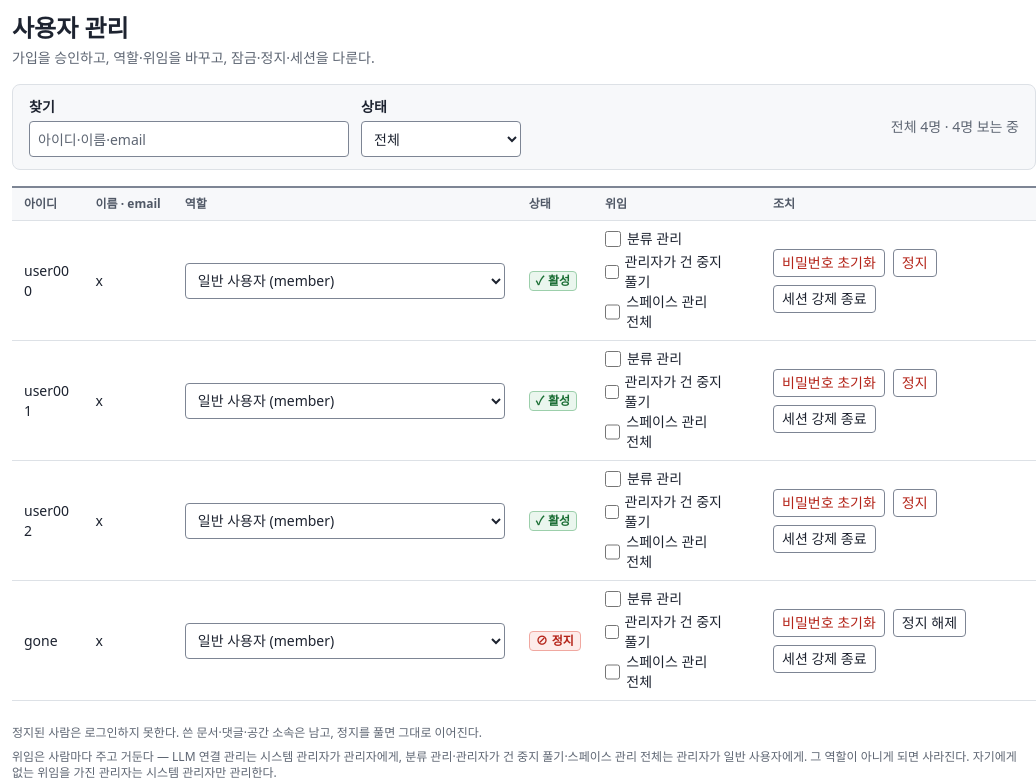
Test: AdminUsersPage — 찾기·거르기·더 보기 (P13 C.6, FR-1450~1452) › **찾는 말과 상태는 서버에 보낸다** — 받은 100명 안에서 거르지 않는다
Expected: the text "user000" is shown, 12,220 -> 84,340
Type "user001" into the search field at [189, 139], box 29,121 -> 349,157
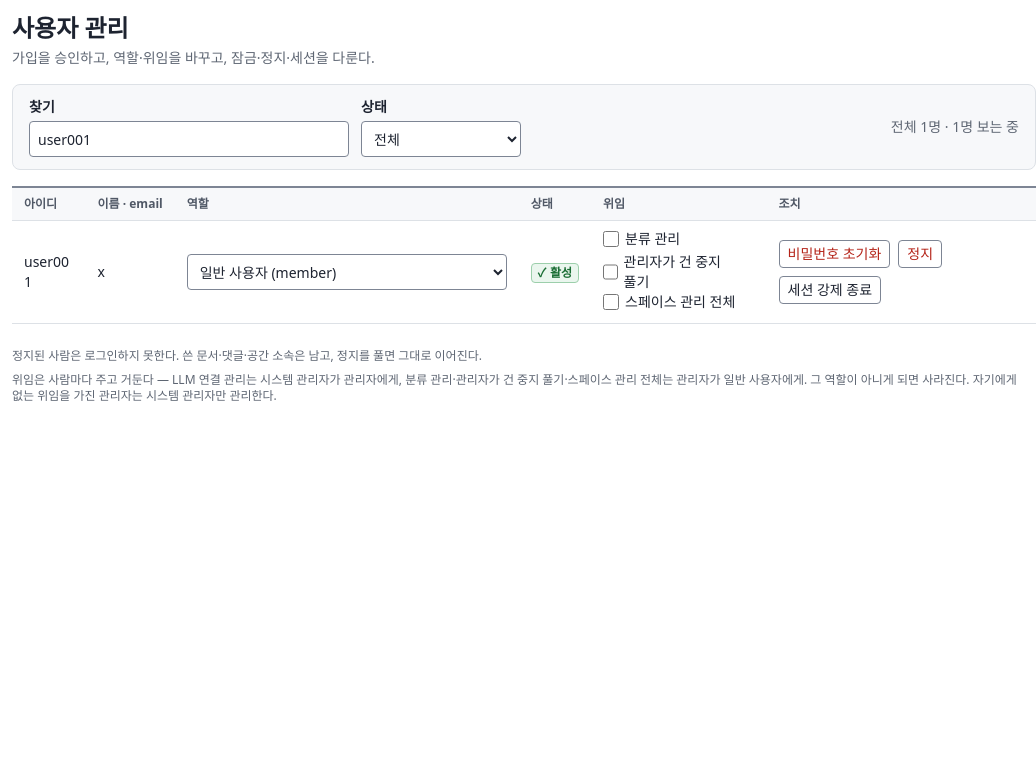
Expected: the text "user001" is shown, 12,220 -> 86,324
Expected: the text "user000" is gone
Clear the search field at [189, 139], box 29,121 -> 349,157
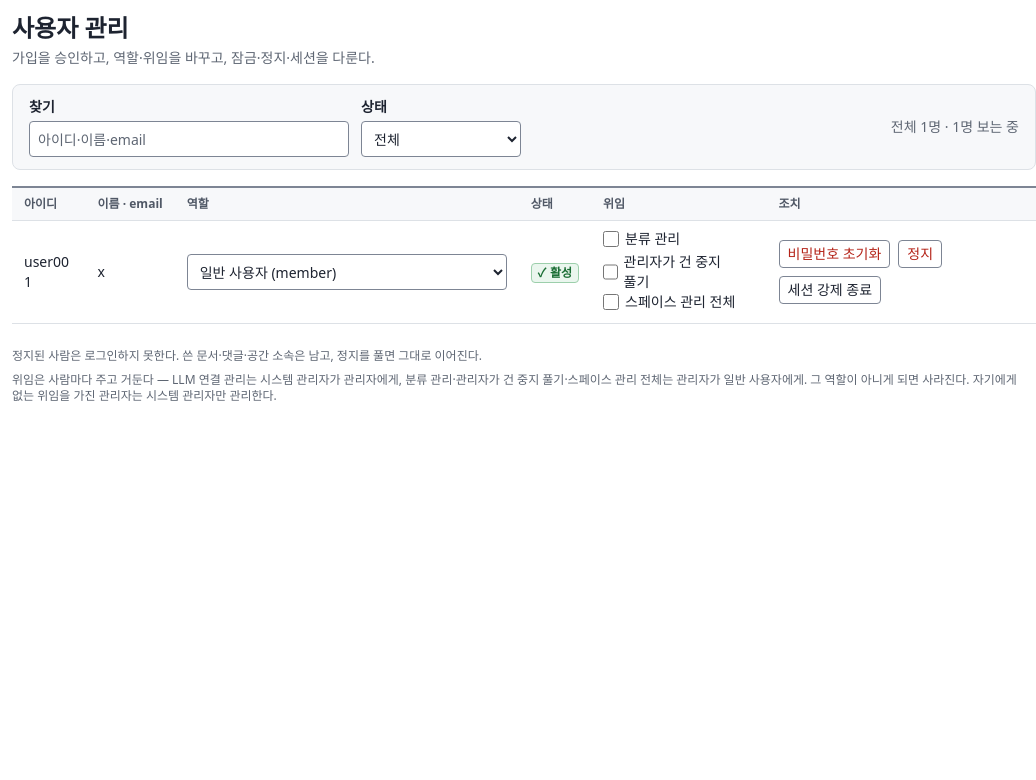
Select "정지" in the dropdown labelled "상태" at [441, 139], box 361,121 -> 521,157
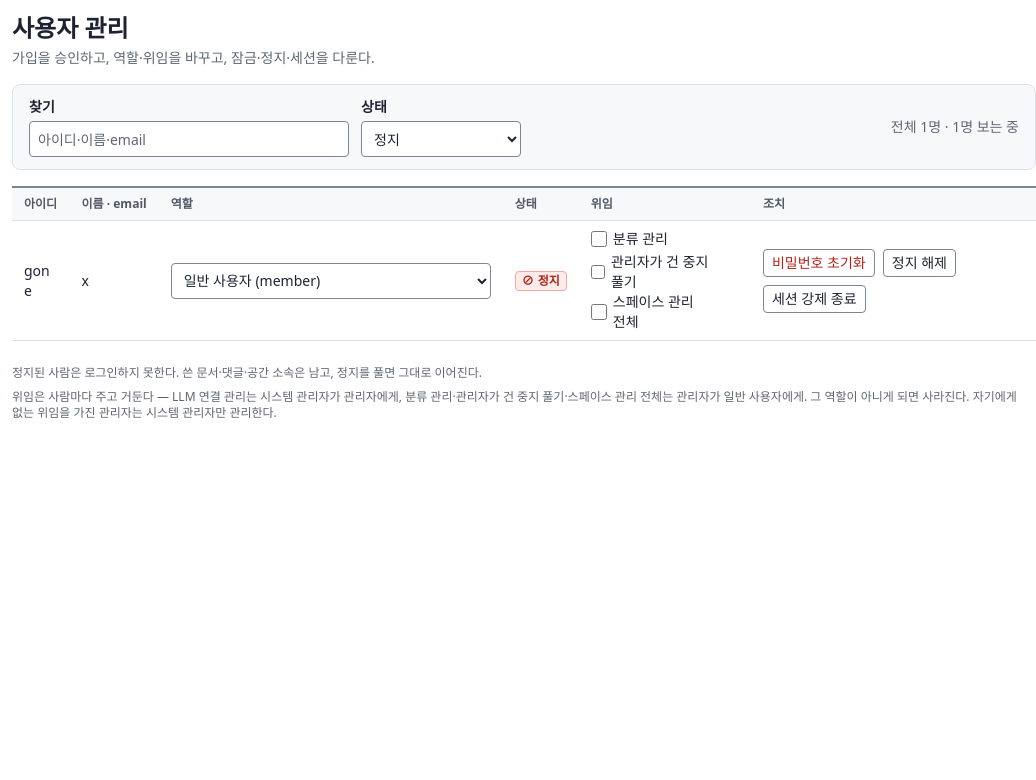
Expected: the text "gone" is shown, 12,220 -> 70,340
Expected: the text "user001" is gone
